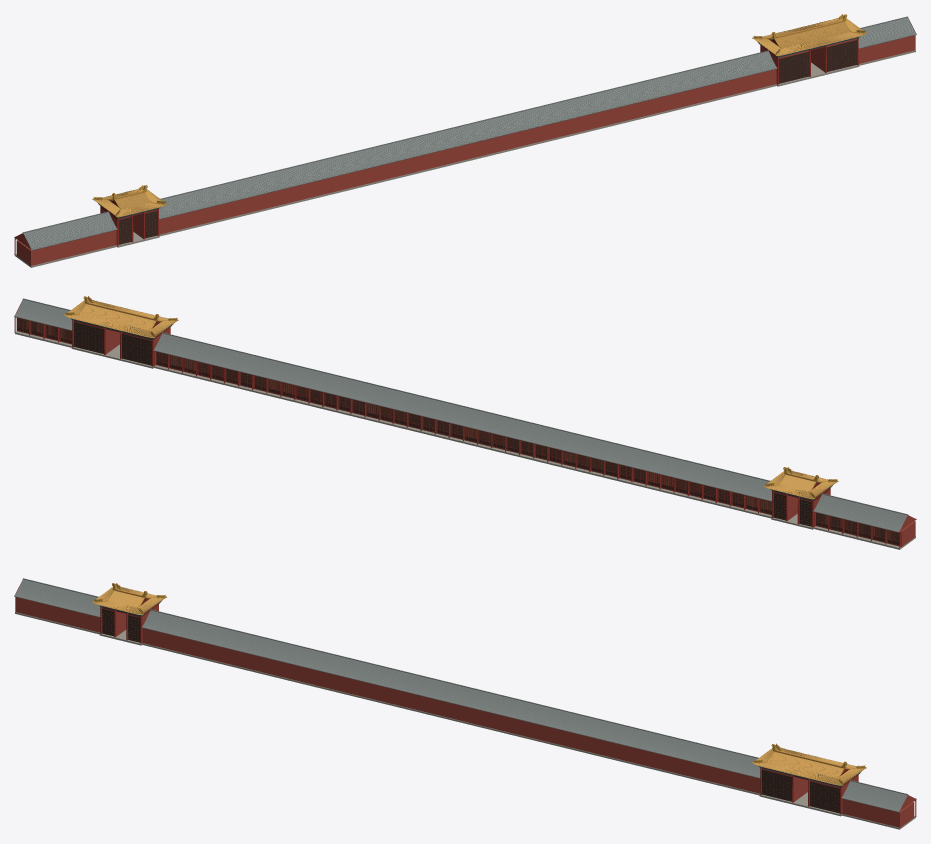
Rendered from axis-ne-detail.glb.
3 views of the same model, one above another, from view 1: azimuth 30°, elevation 25°; view 2: azimuth 150°, elevation 25°; view 3: azimuth 330°, elevation 25° (orthographic).
Parts seen in each view (by area): view 1: axis-ne grayRoof.001, axis-ne wall.001, axis-ne grayTile.001, axis-ne tile.001, axis-ne stone.001, axis-ne grayRidge.001, axis-ne wood.001, axis-ne roof.001; view 2: axis-ne grayRoof.001, axis-ne grayTile.001, axis-ne wood.001, axis-ne lattice, axis-ne redDark.001, axis-ne stone.001, axis-ne wall.001, axis-ne tile.001, axis-ne red.001, axis-ne grayRidge.001, axis-ne roof.001; view 3: axis-ne grayRoof.001, axis-ne wall.001, axis-ne grayTile.001, axis-ne tile.001, axis-ne stone.001, axis-ne grayRidge.001, axis-ne wood.001, axis-ne roof.001, axis-ne red.001.
Part boxes in pixels (x1,y1,x2,y2): axis-ne grayRoof.001: [23, 17, 915, 249]; axis-ne wall.001: [14, 18, 916, 265]; axis-ne grayTile.001: [24, 18, 915, 249]; axis-ne tile.001: [93, 17, 866, 217]; axis-ne stone.001: [14, 50, 915, 267]; axis-ne grayRidge.001: [14, 16, 916, 250]; axis-ne wood.001: [119, 40, 856, 244]; axis-ne roof.001: [116, 20, 847, 213]; axis-ne grayRoof.001: [15, 299, 907, 531]; axis-ne grayTile.001: [15, 300, 906, 531]; axis-ne wood.001: [17, 318, 899, 545]; axis-ne lattice: [17, 318, 899, 541]; axis-ne redDark.001: [17, 318, 900, 545]; axis-ne stone.001: [14, 331, 915, 549]; axis-ne wall.001: [14, 300, 916, 546]; axis-ne tile.001: [64, 299, 837, 499]; axis-ne red.001: [14, 317, 900, 547]; axis-ne grayRidge.001: [14, 298, 916, 532]; axis-ne roof.001: [83, 302, 814, 495]; axis-ne grayRoof.001: [14, 579, 907, 811]; axis-ne wall.001: [15, 582, 916, 827]; axis-ne grayTile.001: [15, 579, 906, 811]; axis-ne tile.001: [92, 586, 866, 785]; axis-ne stone.001: [15, 612, 916, 829]; axis-ne grayRidge.001: [14, 578, 916, 812]; axis-ne wood.001: [102, 608, 839, 813]; axis-ne roof.001: [115, 589, 843, 781]; axis-ne red.001: [100, 605, 916, 816].
Size of the model in its own units: 2.56 by 0.1297 by 0.1201.
